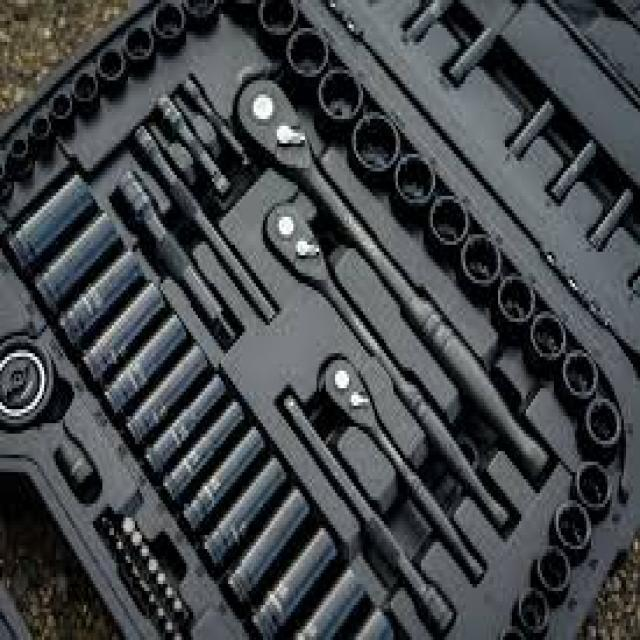wrench: (236, 69, 542, 453), (262, 194, 510, 528), (321, 352, 492, 582)
